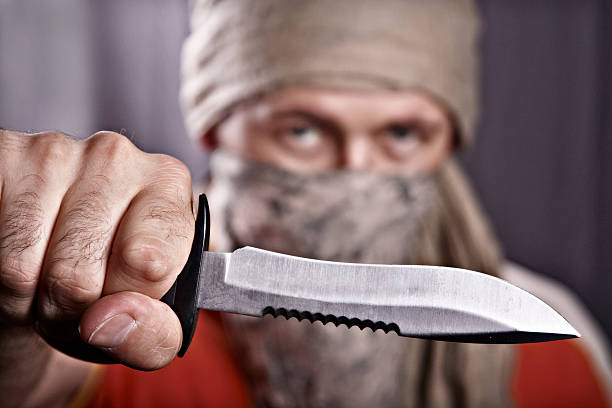knife: (155, 191, 583, 360)
